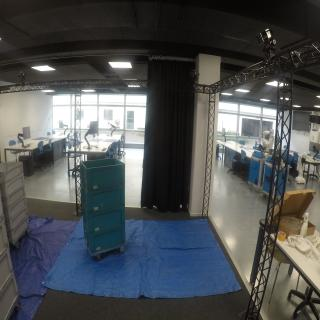BoxB4: (81, 163, 126, 190), (85, 230, 130, 255), (81, 189, 129, 211), (83, 210, 129, 231)
